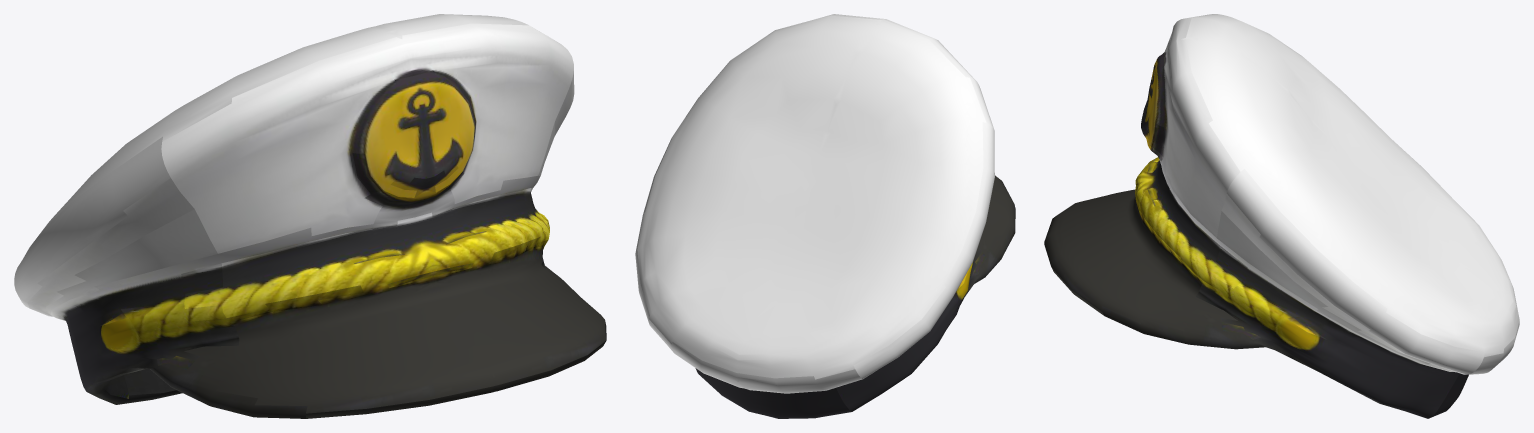
Rendered from Captain.glb.
The picture shows the model from 3 angles, left to right: view 1: azimuth 30°, elevation 25°; view 2: azimuth 150°, elevation 25°; view 3: azimuth 270°, elevation 25°; orthographic projection. The views are drawn at different scales.
Visible parts, largest first — view 1: Captain; view 2: Captain; view 3: Captain.
Boxes of the visible parts, bbox=[...] form: Captain: bbox=[14, 14, 606, 418]; Captain: bbox=[635, 14, 1015, 418]; Captain: bbox=[1044, 14, 1519, 418].
Bounding box in the file's own units: 0.5636 × 0.5258 × 0.6411.
1 material, 1 textured.
